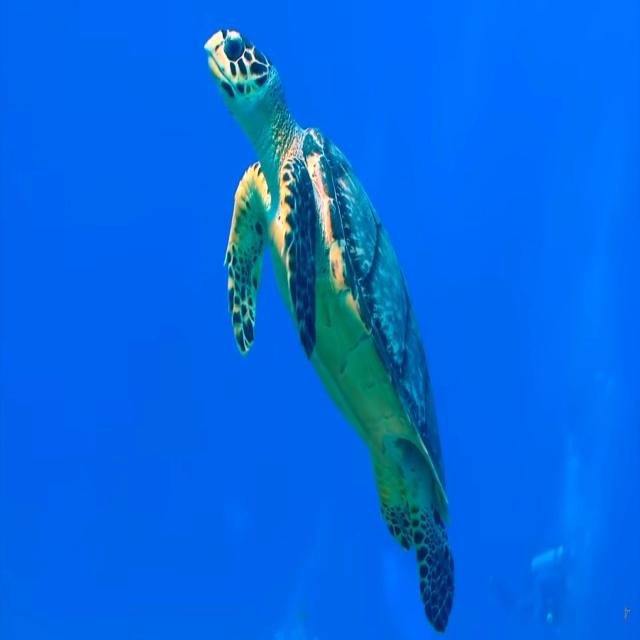Sea turtle: (200, 26, 456, 634)
